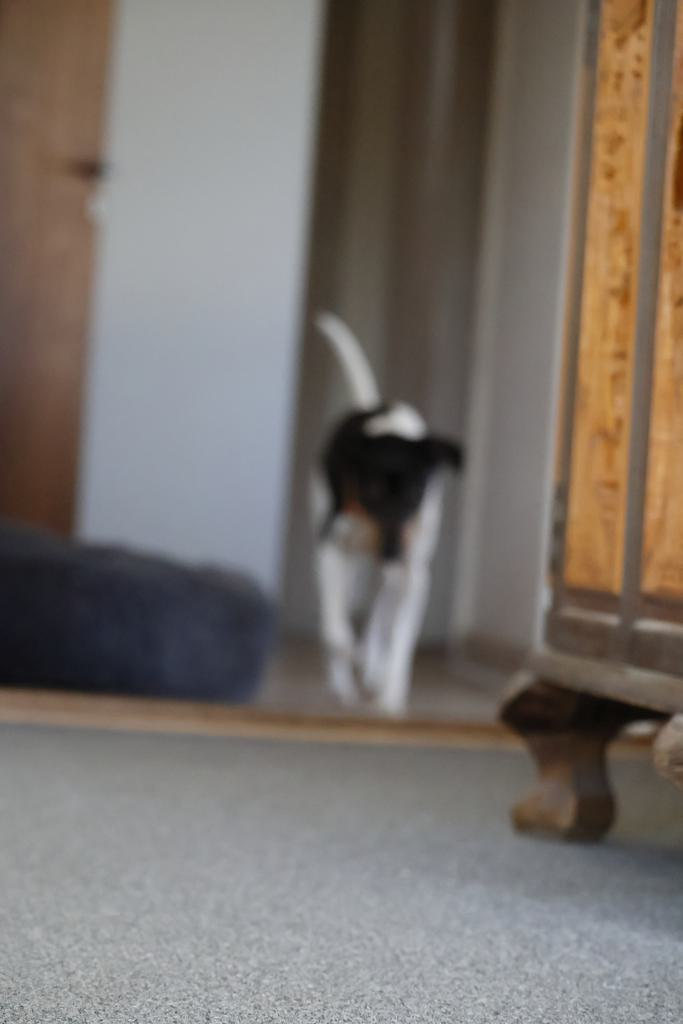Dog: (287, 298, 490, 732)
